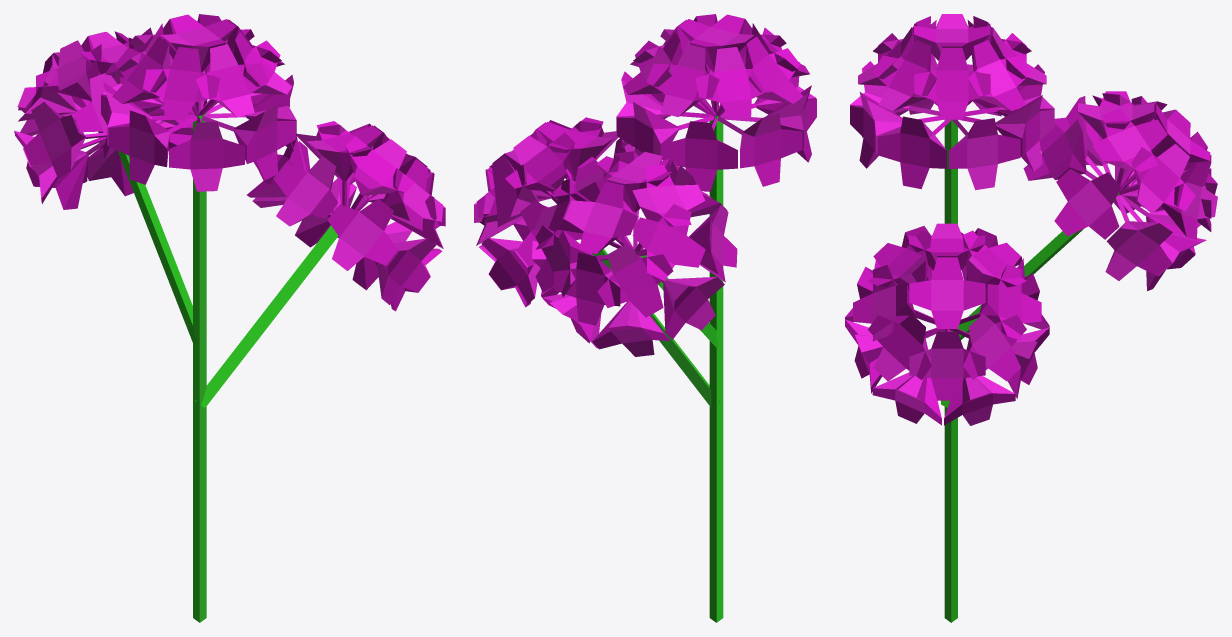
File: phiras.glb
3 views of the same model, side by side, from view 1: azimuth 30°, elevation 25°; view 2: azimuth 150°, elevation 25°; view 3: azimuth 270°, elevation 25° (orthographic).
Visible parts, largest first — view 1: Cylinder075; view 2: Cylinder075; view 3: Cylinder075.
Boxes of the visible parts, x1,y1,x2,y2 form: Cylinder075: (14, 14, 445, 622); Cylinder075: (474, 14, 816, 622); Cylinder075: (845, 14, 1217, 622).
Bounding box in the file's own units: 188 × 330 × 190.
1 material, 1 textured.
